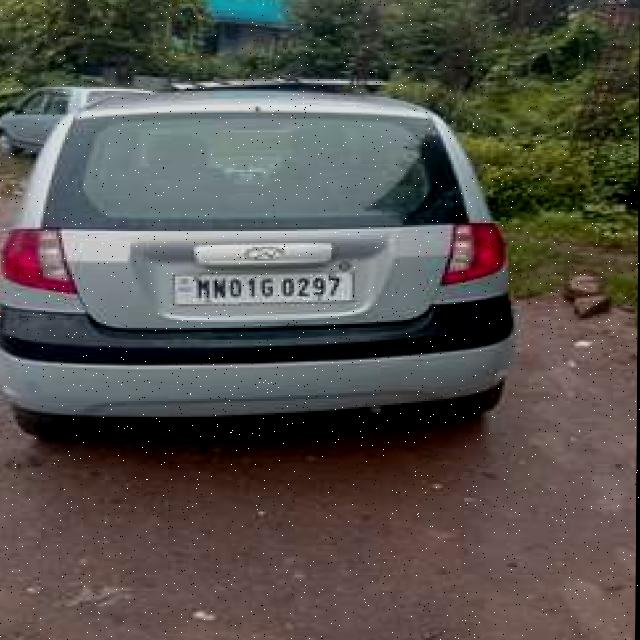plate: (174, 273, 358, 304)
